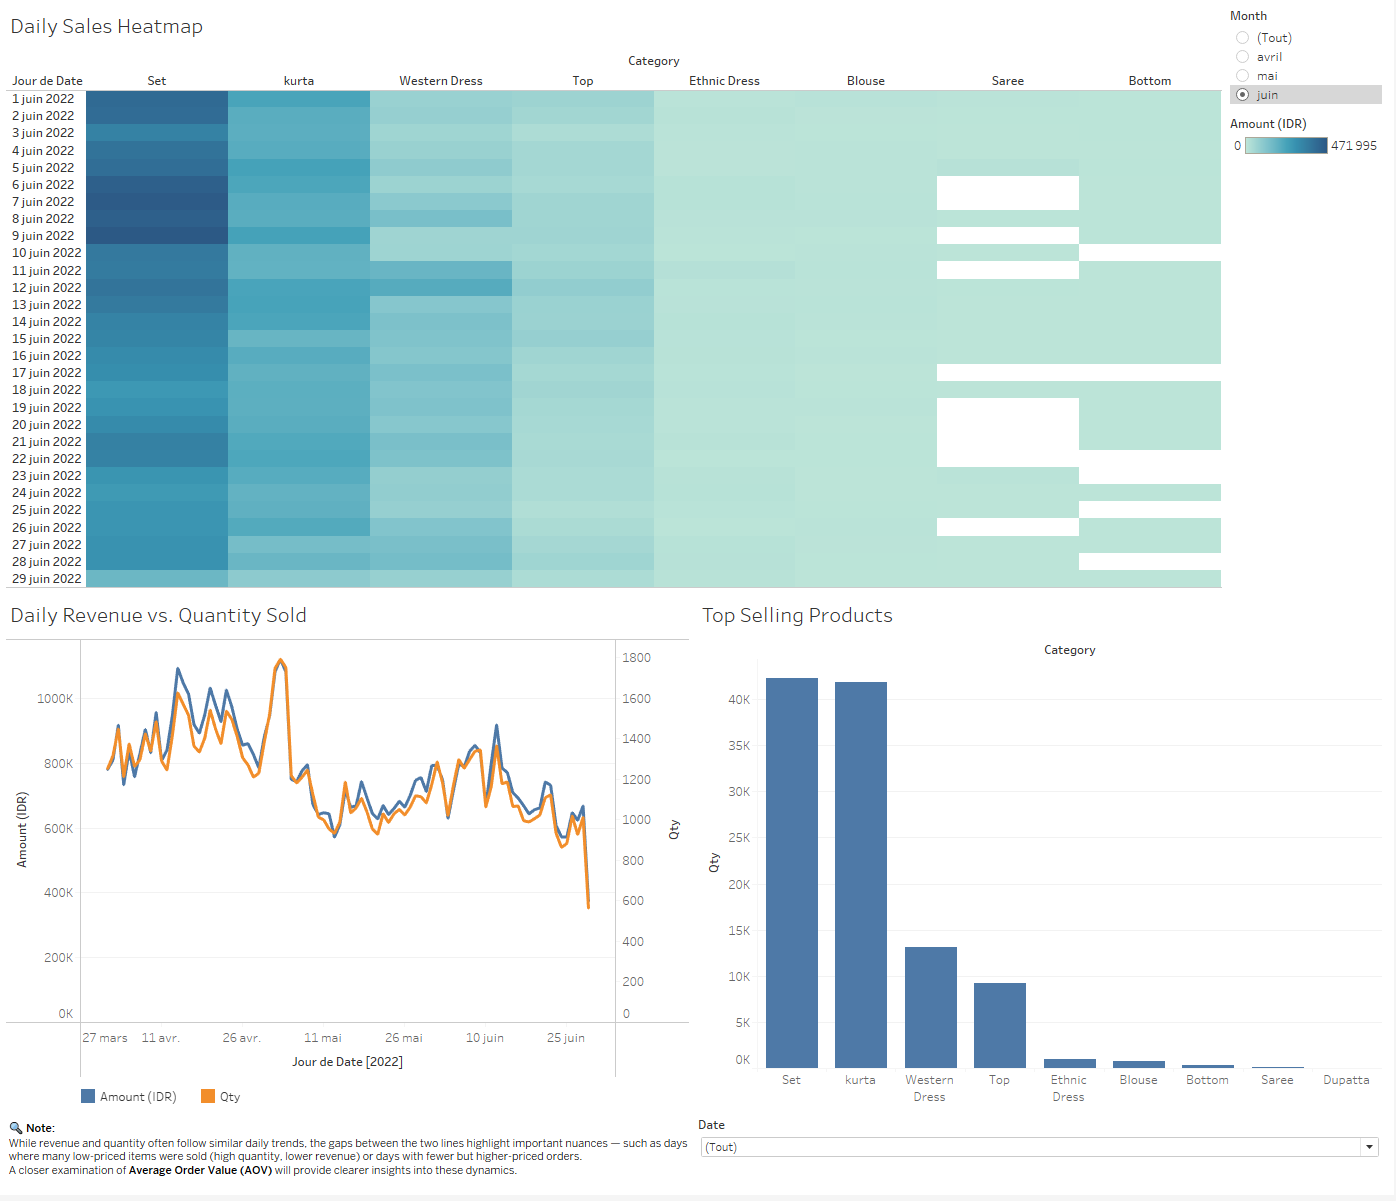

Layout of this report page (visuals, bound fields, positions):
{"tool":"tableau","page":{"name":"Daily overview","canvas":[1400,1200],"ordinal":1},"visuals":[{"type":"worksheet","title":"Daily Sales Heatmap","mark":"Automatic","rows":["Date"],"cols":["Category"],"box":[8,8,1224,589.2]},{"type":"filter","title":"Daily Sales Heatmap","param":"[federated.0rhn1sm10agrzr14pp34g1ljm6ut].[Ensemble MOIS(Date)]","box":[1232,8,160,108]},{"type":"legend","title":"Daily Sales Heatmap","param":"[federated.0rhn1sm10agrzr14pp34g1ljm6ut].[sum:Amount (IDR):qk]","box":[1232,116,160,65]},{"type":"worksheet","title":"Daily Revenue vs. Quantity Sold","mark":"Automatic","rows":["Amount (IDR)","Qty"],"cols":["Date"],"box":[8,597.2,692,489.6]},{"type":"worksheet","title":"Top Selling Products","mark":"Automatic","rows":["Qty"],"cols":["Category"],"box":[700,597.2,692,519.8]},{"type":"legend","title":"Daily Revenue vs. Quantity Sold","param":"[federated.0rhn1sm10agrzr14pp34g1ljm6ut].[:Measure Names]","box":[8,1086.9,692,30.4]},{"type":"filter","title":"Top Selling Products","param":"[federated.0rhn1sm10agrzr14pp34g1ljm6ut].[Ensemble MJA(Date)]","box":[700,1117,692,75]},{"type":"text","box":[8,1117.3,692,74.7]}]}

Visuals, with their boxes in screenshot pixels (x1, y1, x2, y2), scaled from the page's 1400x1200 canvas onto the 1396x1201 screenshot:
"Daily Sales Heatmap" worksheet: BBox(8, 8, 1228, 598)
"Daily Sales Heatmap" filter: BBox(1228, 8, 1388, 116)
"Daily Sales Heatmap" legend: BBox(1228, 116, 1388, 181)
"Daily Revenue vs. Quantity Sold" worksheet: BBox(8, 598, 698, 1088)
"Top Selling Products" worksheet: BBox(698, 598, 1388, 1118)
"Daily Revenue vs. Quantity Sold" legend: BBox(8, 1088, 698, 1118)
"Top Selling Products" filter: BBox(698, 1118, 1388, 1193)
text: BBox(8, 1118, 698, 1193)
